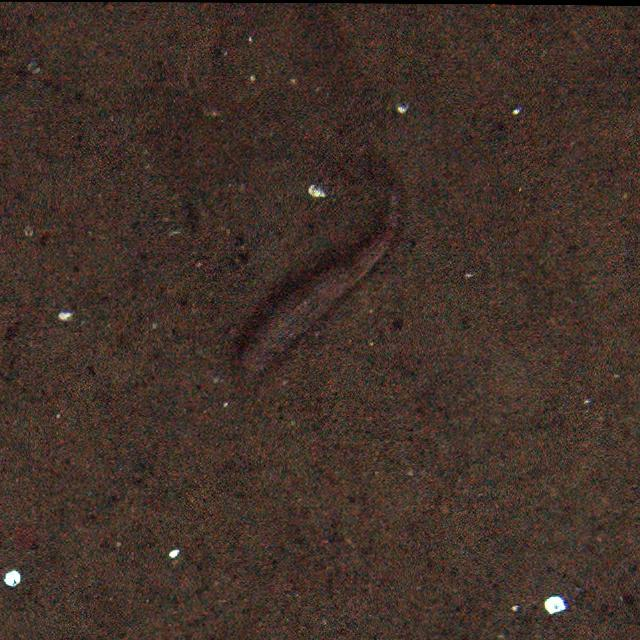roundfish: (231, 168, 410, 380)
